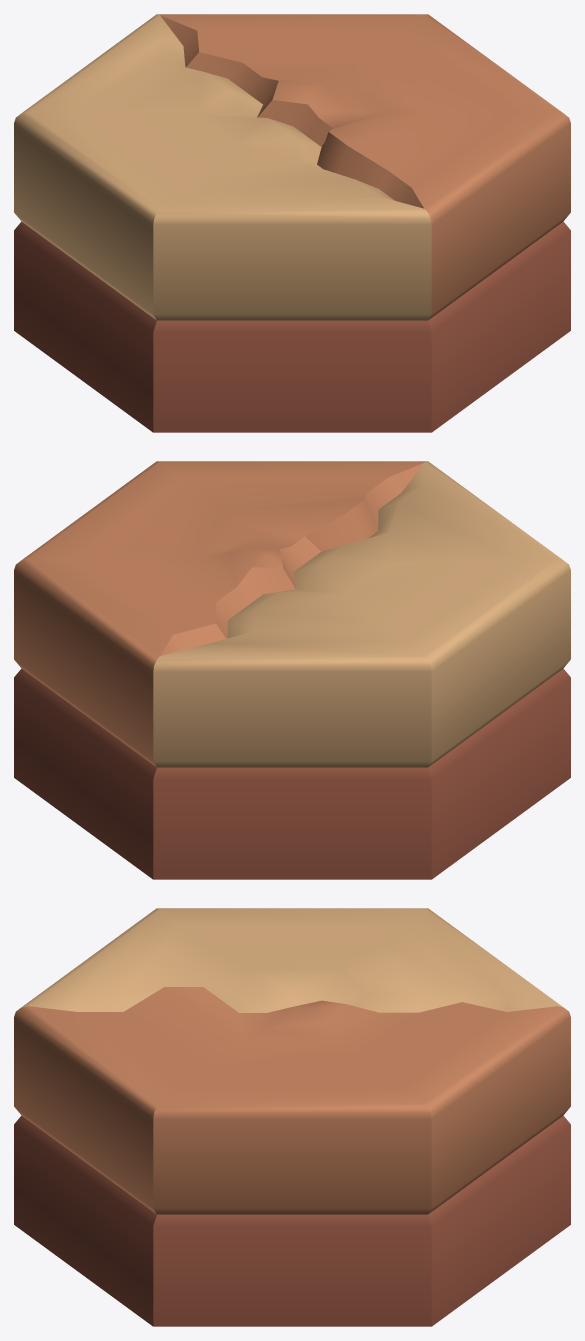
Rendered from hex_sand_transitionB.glb.
The picture shows the model from 3 angles, top to bottom: view 1: azimuth 30°, elevation 25°; view 2: azimuth 150°, elevation 25°; view 3: azimuth 270°, elevation 25°; orthographic projection.
Visible parts, largest first — view 1: hex_sand_transitionB; view 2: hex_sand_transitionB; view 3: hex_sand_transitionB.
Boxes of the visible parts, bbox=[...] form: hex_sand_transitionB: bbox=[14, 14, 570, 432]; hex_sand_transitionB: bbox=[14, 461, 570, 879]; hex_sand_transitionB: bbox=[14, 908, 570, 1326].
Size of the model in its own units: 2 by 1.07 by 2.31.
